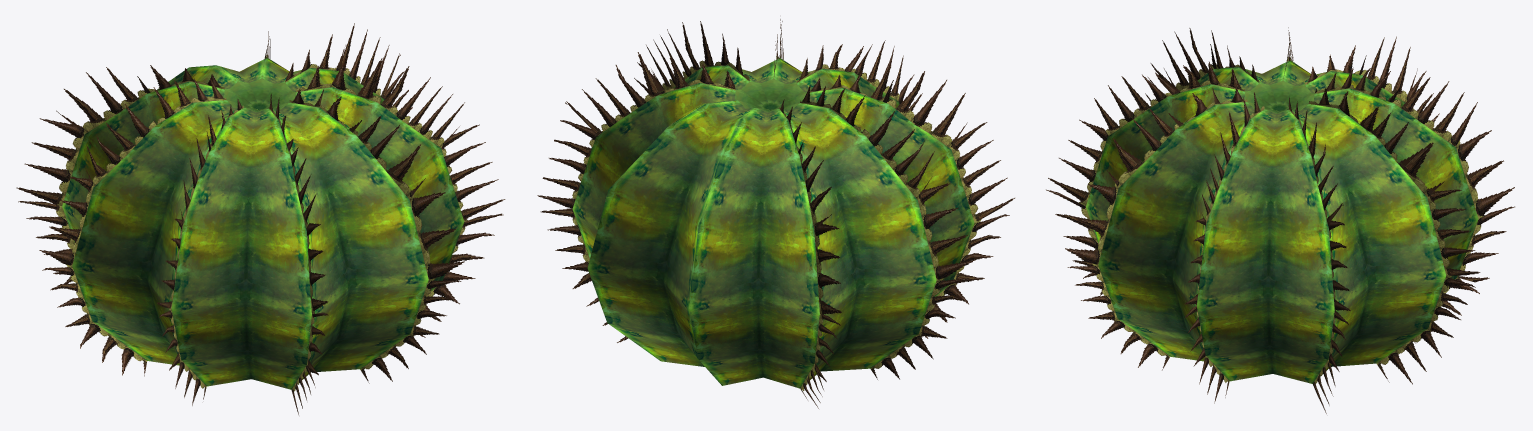
Rendered from Cactus.gltf.
3 views of the same model, side by side, from view 1: azimuth 30°, elevation 25°; view 2: azimuth 150°, elevation 25°; view 3: azimuth 270°, elevation 25° (orthographic). The views are drawn at different scales.
Visible parts, largest first — view 1: CactusMesh; view 2: CactusMesh; view 3: CactusMesh.
Part boxes in pixels (bbox=[...]): CactusMesh: bbox=[16, 23, 505, 414]; CactusMesh: bbox=[537, 19, 1014, 408]; CactusMesh: bbox=[1046, 27, 1514, 413].
Bounding box in the file's own units: 2.84 × 1.95 × 2.89.
2 materials, 2 textured.
